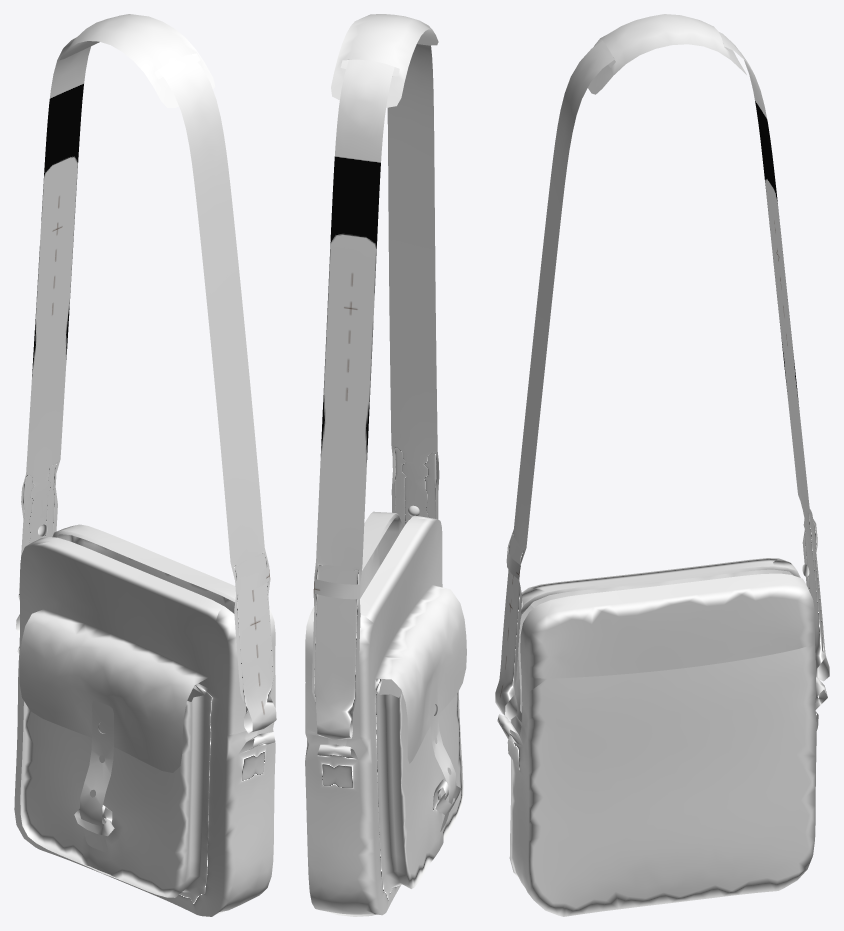
Rendered from manBag4.glb.
3 views of the same model, side by side, from view 1: azimuth 30°, elevation 25°; view 2: azimuth 150°, elevation 25°; view 3: azimuth 270°, elevation 25° (orthographic). The views are drawn at different scales.
Visible parts, largest first — view 1: manBag; view 2: manBag; view 3: manBag.
Boxes of the visible parts, x1=… form: manBag: x1=14, y1=14, x2=276, y2=916; manBag: x1=305, y1=14, x2=466, y2=916; manBag: x1=495, y1=14, x2=829, y2=916.
Size of the model in its own units: 1.36 by 7.77 by 2.71.
Materials: 1 (1 with a texture image).
